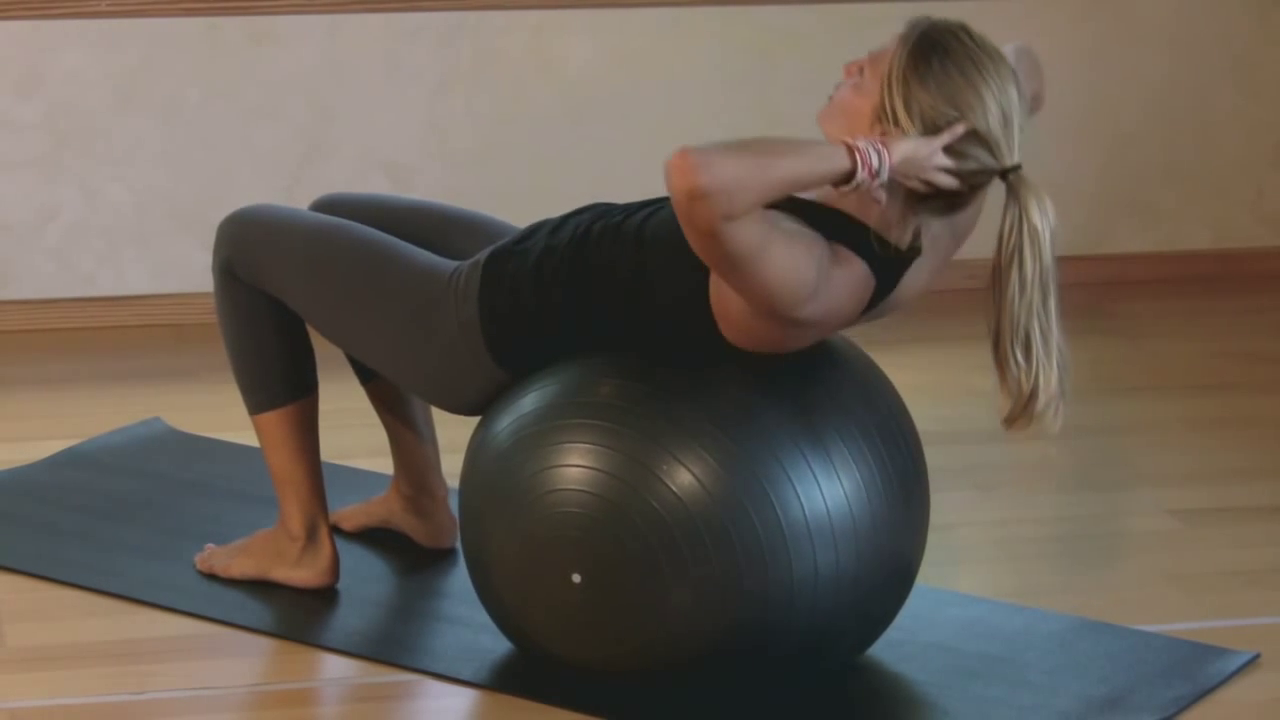yogaball: (453, 310, 941, 709)
